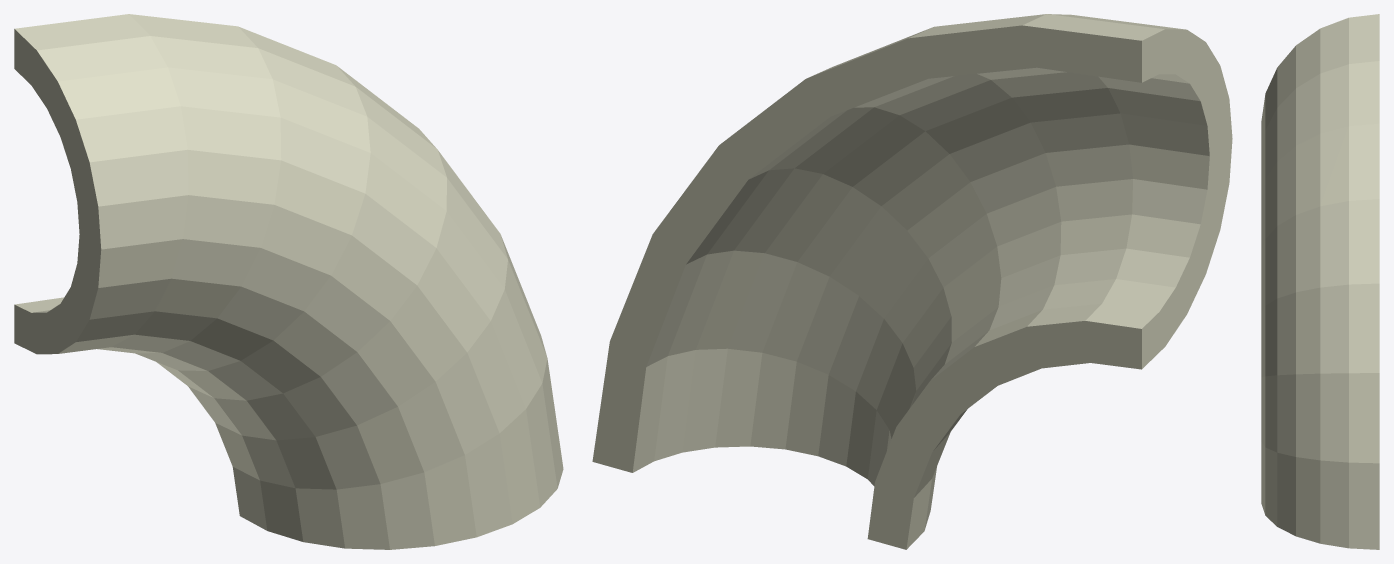
Rendered from section_124.obj.
3 renders of one model, left to right at view 1: azimuth 30°, elevation 25°; view 2: azimuth 150°, elevation 25°; view 3: azimuth 270°, elevation 25°, orthographic. The views are drawn at different scales.
Size of the model in its own units: 13.99 by 13.79 by 4.
